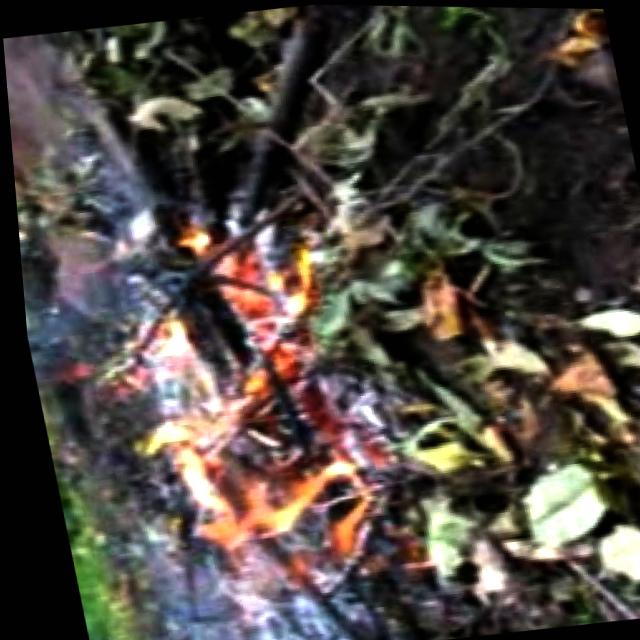Fire: (84, 203, 384, 615)
